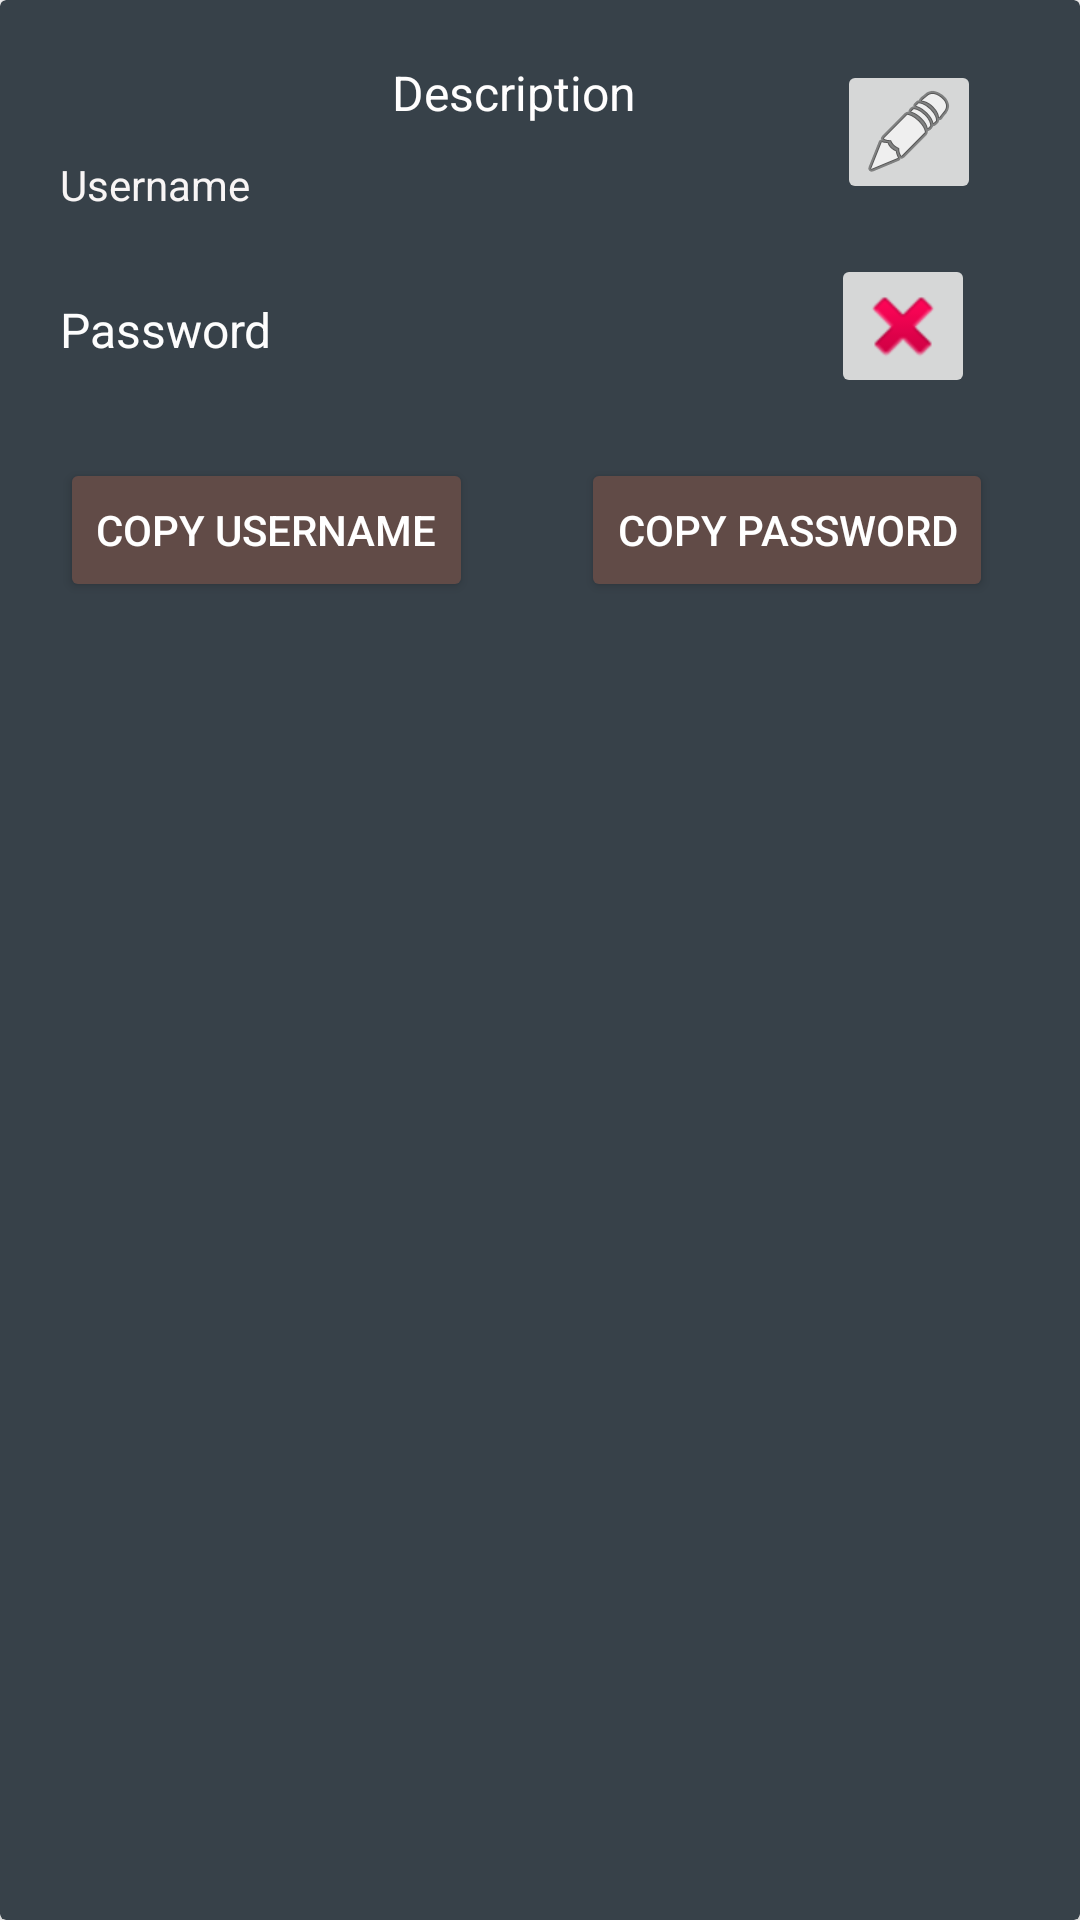

Where icons sit on this 1080x1920 app screen, as (x1, y1, x2, y2):
Delete: (843, 272, 963, 380)
edit: (849, 78, 969, 186)
